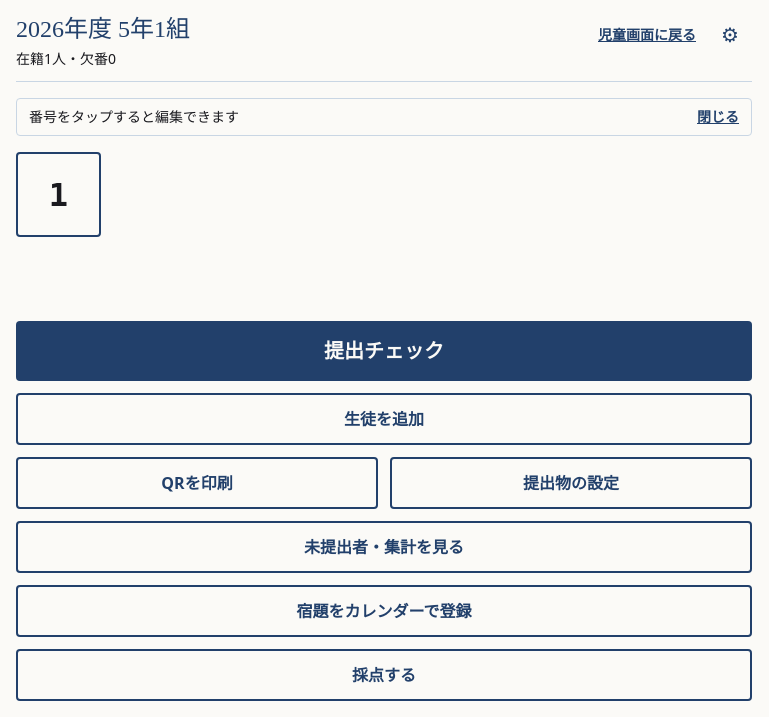
Scenario: 初回案内 › 閉じると消えて設定に記録される
Step 1. Click the button "閉じる" → (718, 117), box [697, 107, 739, 127]
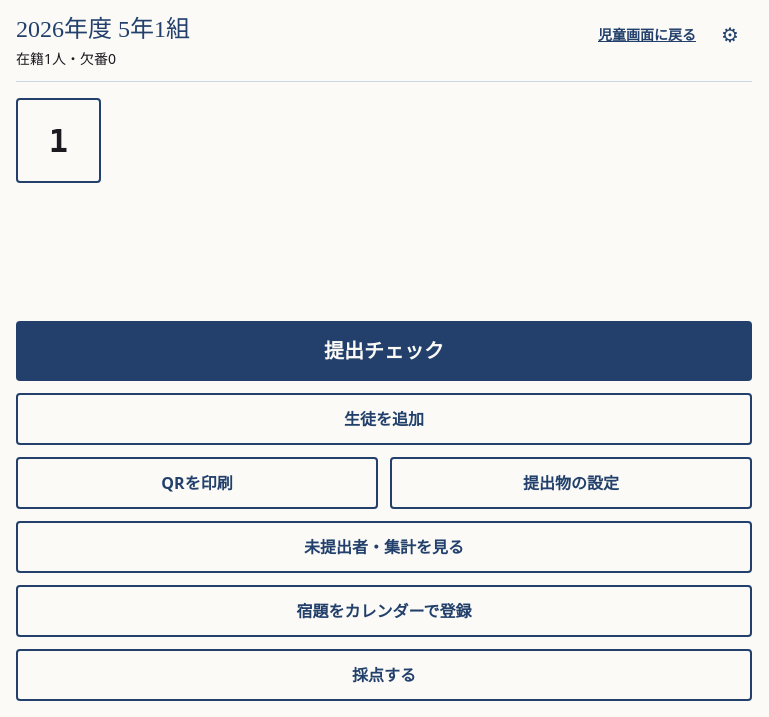
Expected: the text "番号をタップすると編集できます" is gone
